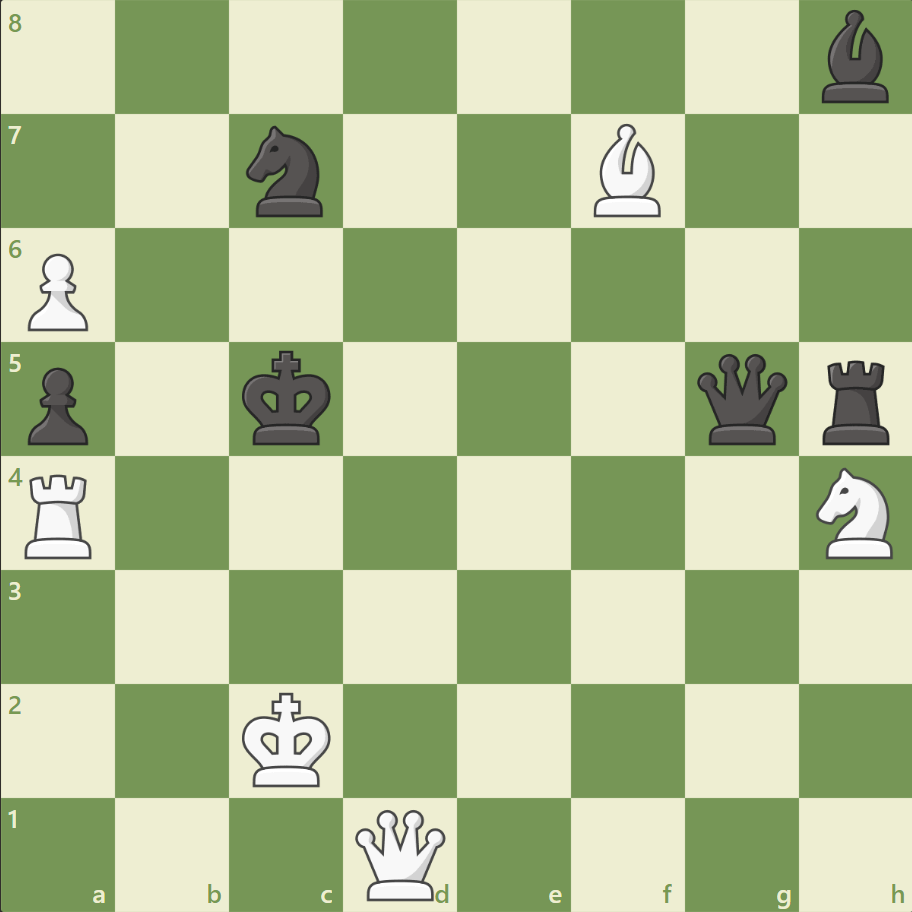B: (592, 125, 670, 229)
K: (242, 694, 340, 795)
N: (814, 467, 903, 568)
P: (28, 249, 100, 333)
Q: (354, 807, 455, 909)
R: (24, 467, 103, 567)
b: (819, 12, 897, 115)
k: (242, 353, 340, 455)
n: (246, 127, 335, 228)
p: (28, 362, 100, 447)
q: (695, 353, 796, 455)
r: (819, 354, 897, 454)
